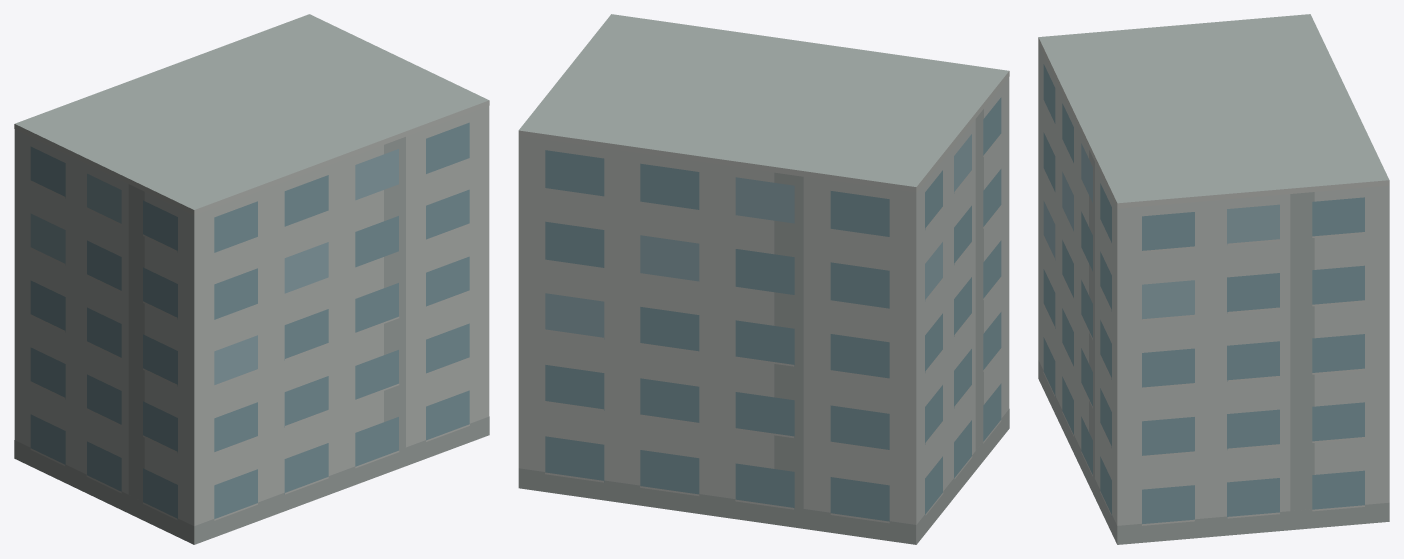
The model's file is residential-928f1731-4466-4b42-b6e8-6b57f3789a15.glb.
The picture shows the model from 3 angles, left to right: view 1: azimuth 30°, elevation 25°; view 2: azimuth 150°, elevation 25°; view 3: azimuth 270°, elevation 25°; orthographic projection. The views are drawn at different scales.
Visible parts, largest first — view 1: residential-928f1731-4466-4b42-b6e8-6b57f3789a15.tmp; view 2: residential-928f1731-4466-4b42-b6e8-6b57f3789a15.tmp; view 3: residential-928f1731-4466-4b42-b6e8-6b57f3789a15.tmp.
Part boxes in pixels (box(x1,y1,x2,y2)): residential-928f1731-4466-4b42-b6e8-6b57f3789a15.tmp: box(14, 14, 489, 544); residential-928f1731-4466-4b42-b6e8-6b57f3789a15.tmp: box(518, 14, 1009, 544); residential-928f1731-4466-4b42-b6e8-6b57f3789a15.tmp: box(1038, 14, 1389, 544).
Size of the model in its own units: 18.13 by 15.25 by 14.22.
